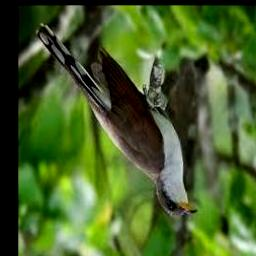Cuckoo: (35, 24, 197, 216)
